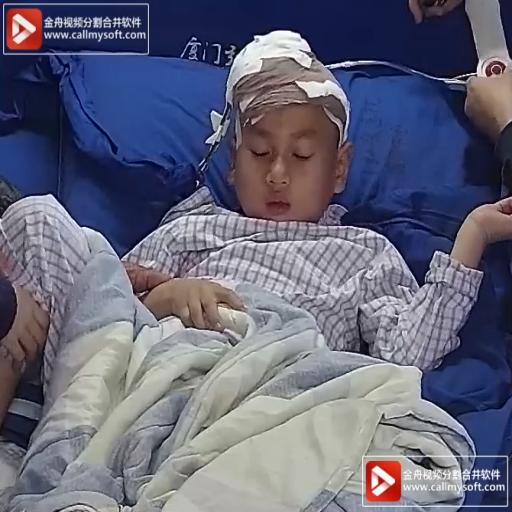Seizure: (220, 34, 355, 229)
